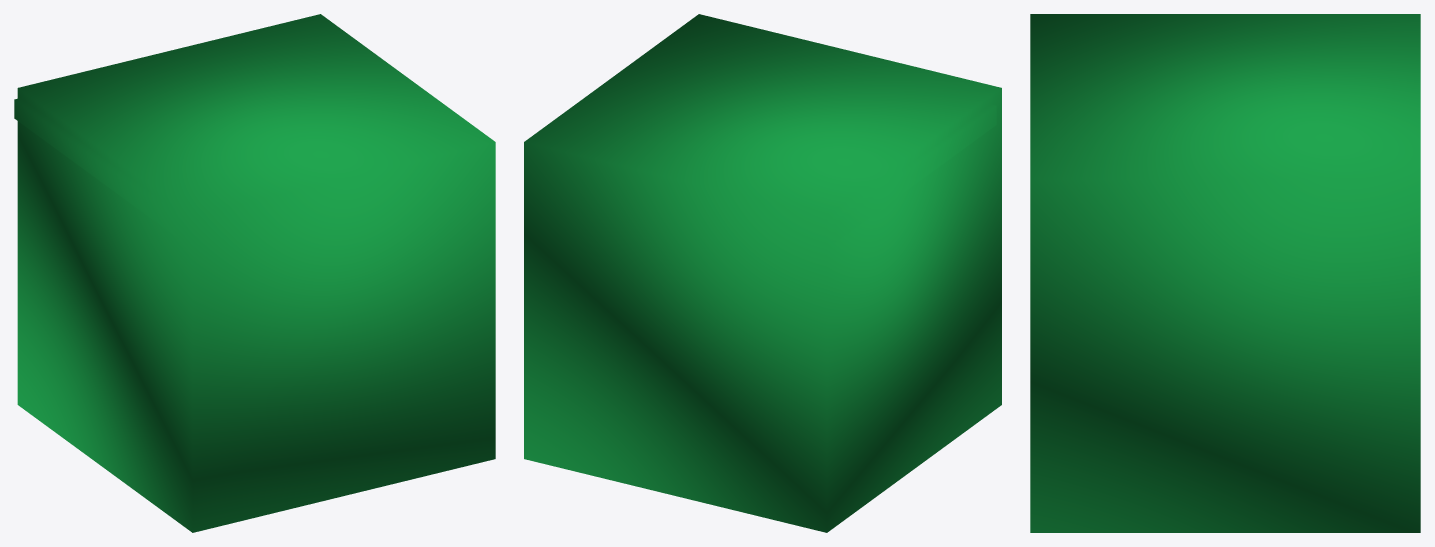
File: ps2_jrpg_merchant_crate.obj
3 views of the same model, side by side, from view 1: azimuth 30°, elevation 25°; view 2: azimuth 150°, elevation 25°; view 3: azimuth 270°, elevation 25° (orthographic). The views are drawn at different scales.
Size of the model in its own units: 1.02 by 1 by 1.
